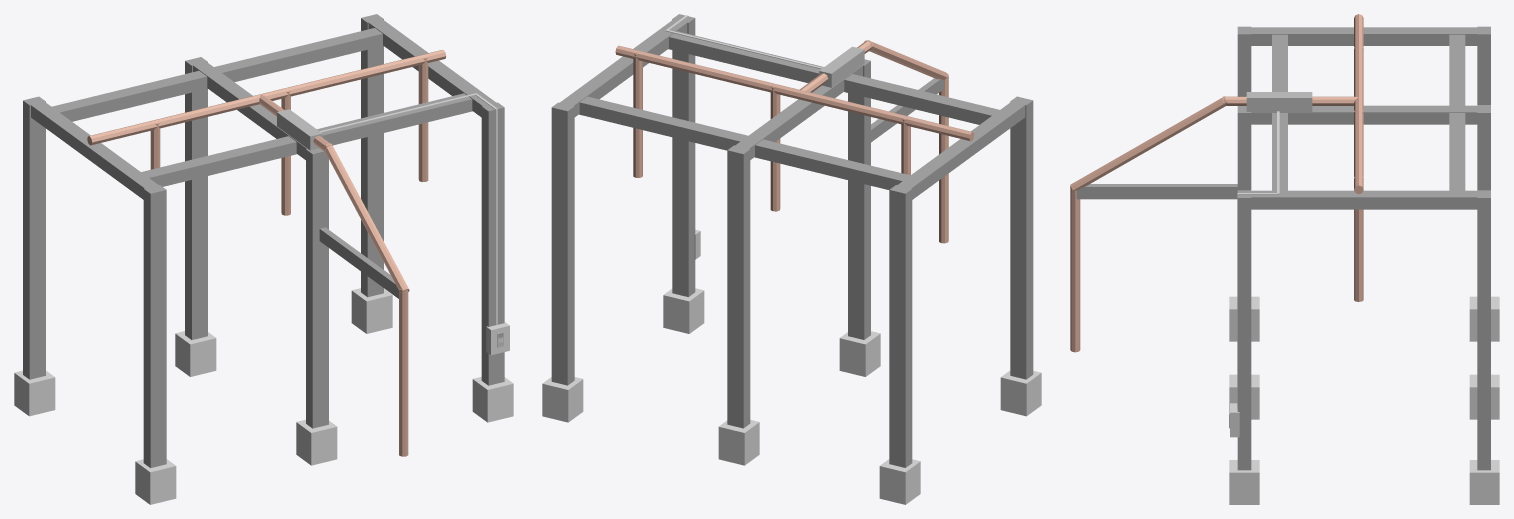
The model's file is props15.fbx.
3 renders of one model, left to right at view 1: azimuth 30°, elevation 25°; view 2: azimuth 150°, elevation 25°; view 3: azimuth 270°, elevation 25°, orthographic.
Visible parts, largest first — view 1: Cube_3; view 2: Cube_3; view 3: Cube_3.
Part boxes in pixels (left/top/right/bottom): Cube_3: left=14, top=14, right=513, bottom=504; Cube_3: left=542, top=14, right=1041, bottom=504; Cube_3: left=1070, top=14, right=1499, bottom=504.
Size of the model in its own units: 1115 by 941 by 1149.
